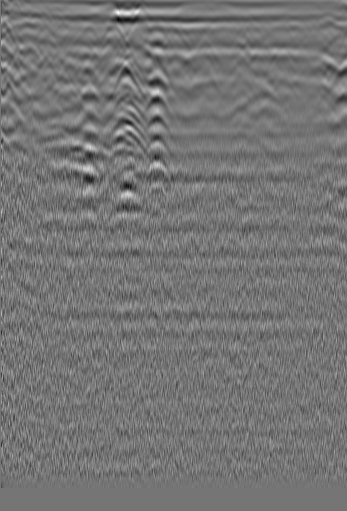가스: (103, 154, 145, 196)
상수: (10, 29, 52, 62)
오수: (308, 11, 340, 43)
우수: (142, 22, 174, 61)
